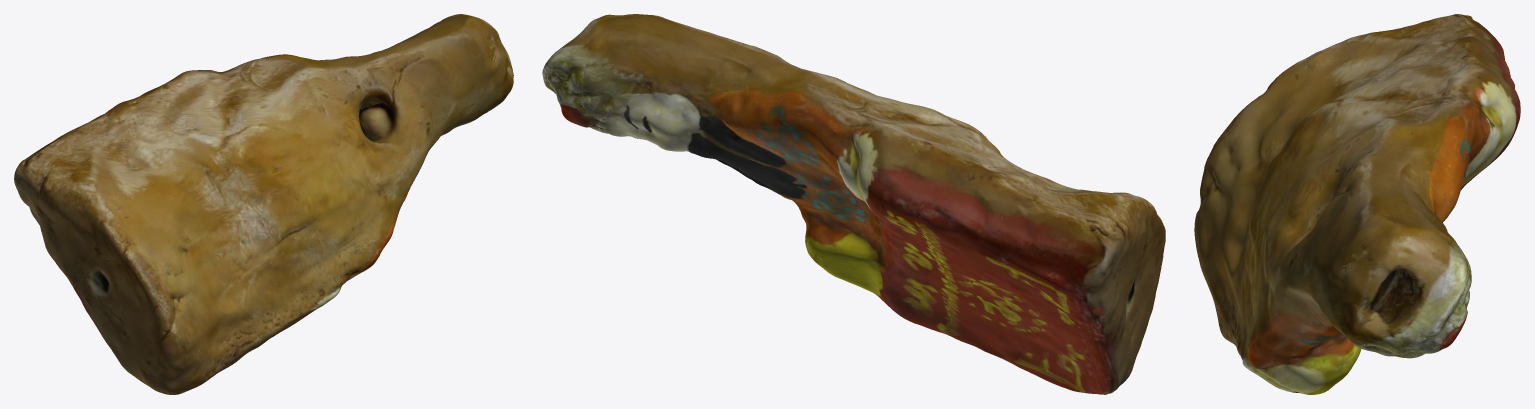
3 views of the same model, side by side, from view 1: azimuth 30°, elevation 25°; view 2: azimuth 150°, elevation 25°; view 3: azimuth 270°, elevation 25° (orthographic). The views are drawn at different scales.
Bounding box in the file's own units: 0.9631 × 0.4947 × 0.4042.
1 material, 1 textured.
